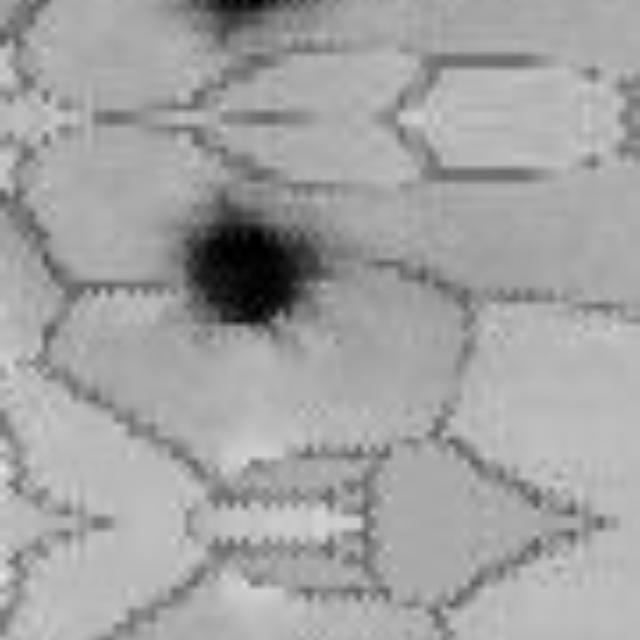good_void: (165, 180, 337, 348), (171, 0, 320, 54)
